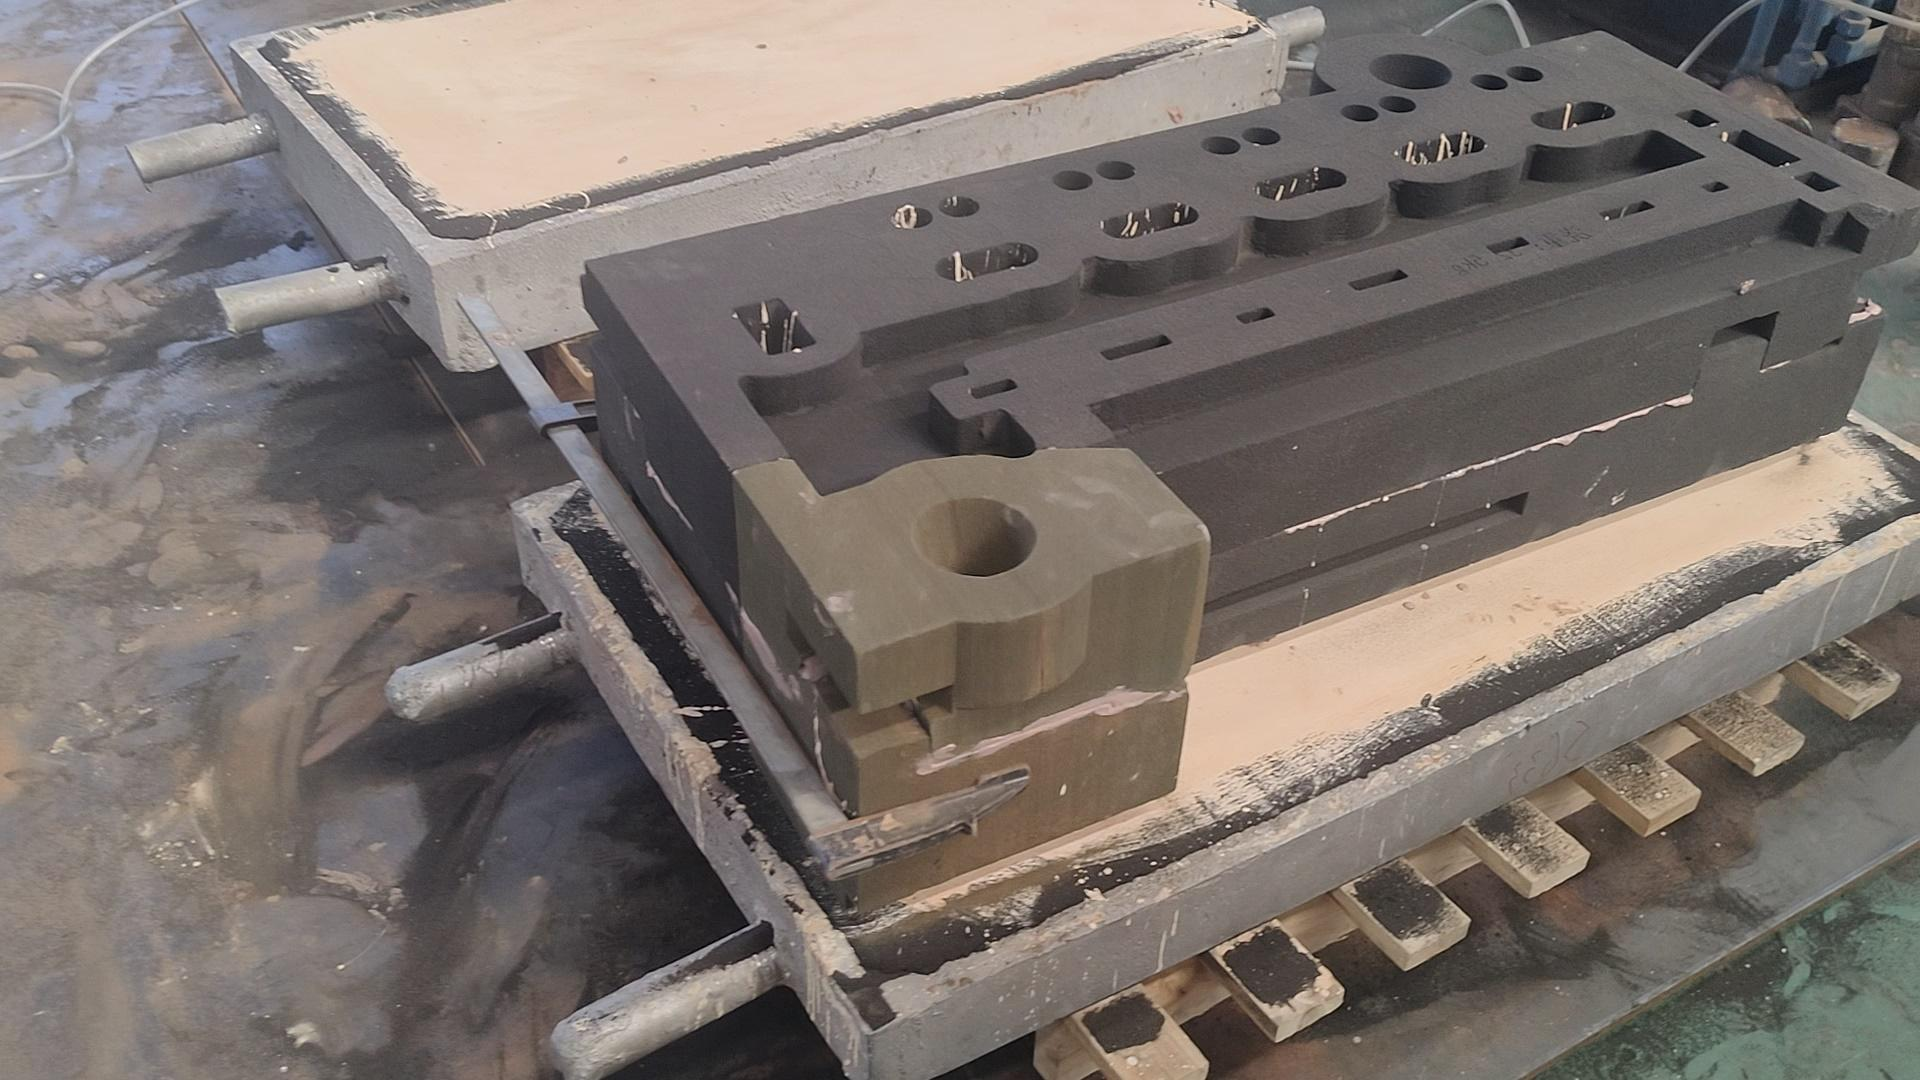pouring hole: (913, 497, 1038, 578), (1367, 53, 1452, 90)
